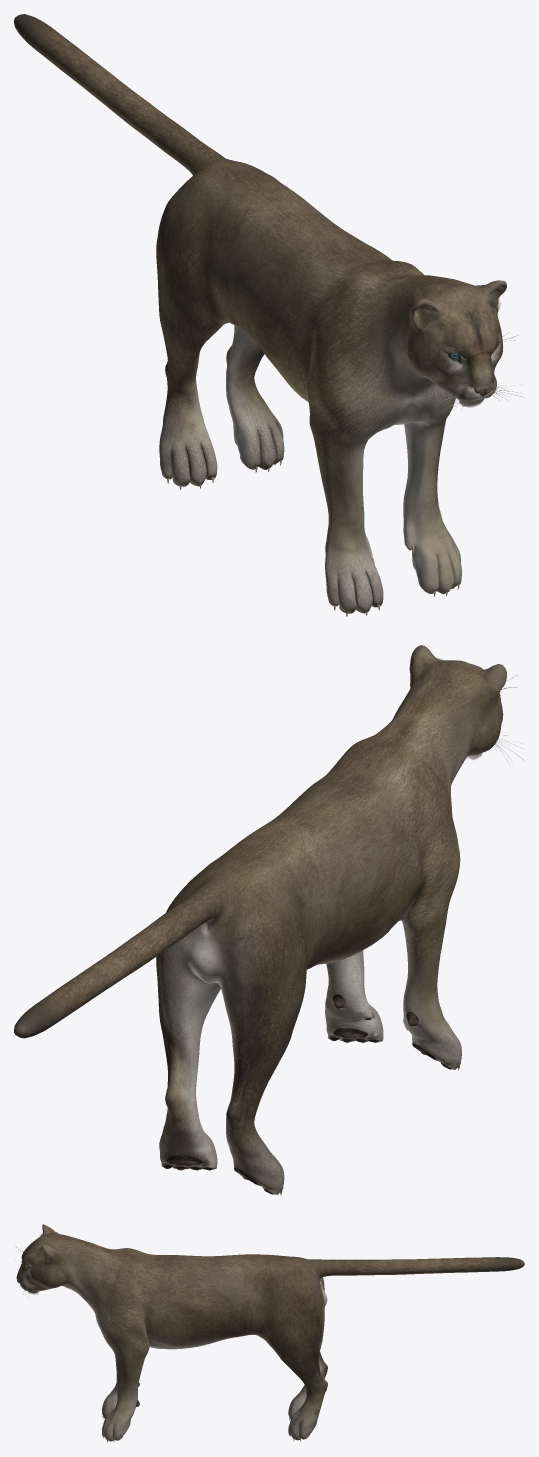
Rendered from puma.glb.
The picture shows the model from 3 angles, top to bottom: view 1: azimuth 30°, elevation 25°; view 2: azimuth 150°, elevation 25°; view 3: azimuth 270°, elevation 25°; orthographic projection. The views are drawn at different scales.
Visible parts, largest first — view 1: Puma_gray; view 2: Puma_gray; view 3: Puma_gray.
Boxes of the visible parts, box(x1,y1,x2,y2) form: Puma_gray: box(14, 14, 523, 616); Puma_gray: box(14, 645, 524, 1195); Puma_gray: box(15, 1224, 524, 1442).
Bounding box in the file's own units: 46.61 × 119 × 285.
16 materials, 15 textured.
